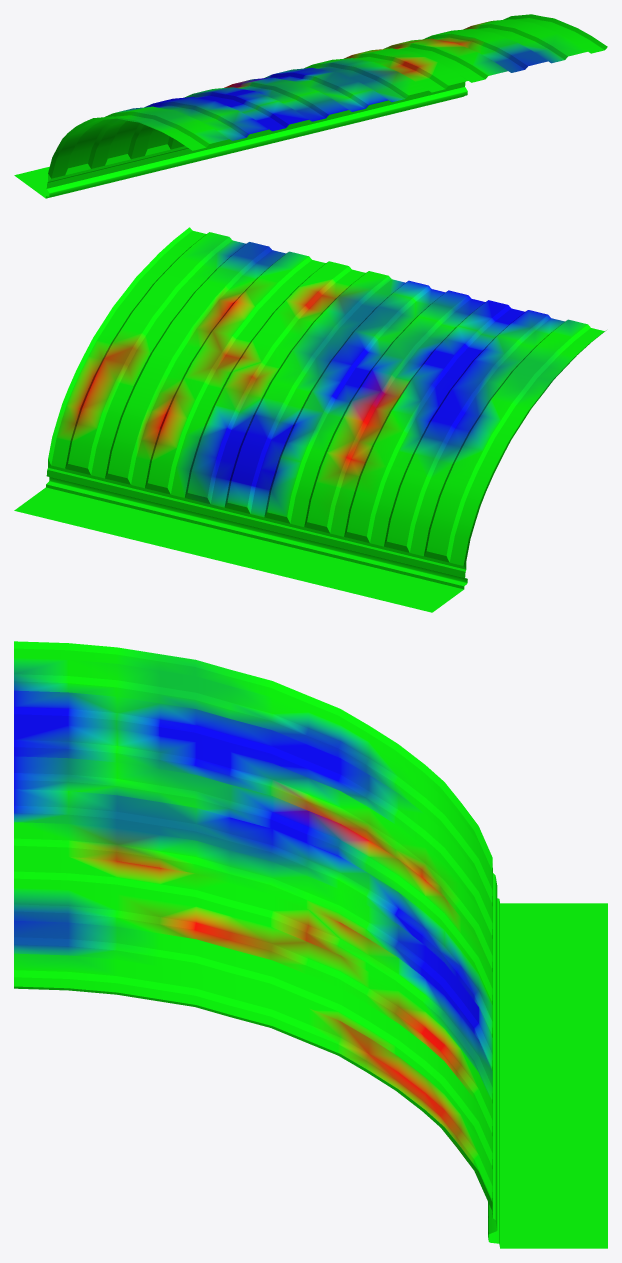
The picture shows the model from 3 angles, top to bottom: view 1: azimuth 30°, elevation 25°; view 2: azimuth 150°, elevation 25°; view 3: azimuth 270°, elevation 25°; orthographic projection. The views are drawn at different scales.
Visible parts, largest first — view 1: SM_Platform_Ceiling_07_LOD0; view 2: SM_Platform_Ceiling_07_LOD0; view 3: SM_Platform_Ceiling_07_LOD0.
Part boxes in pixels (x1=…): SM_Platform_Ceiling_07_LOD0: x1=14, y1=14, x2=607, y2=198; SM_Platform_Ceiling_07_LOD0: x1=14, y1=227, x2=606, y2=612; SM_Platform_Ceiling_07_LOD0: x1=14, y1=641, x2=607, y2=1248.
Size of the model in its own units: 825 by 600 by 292.
